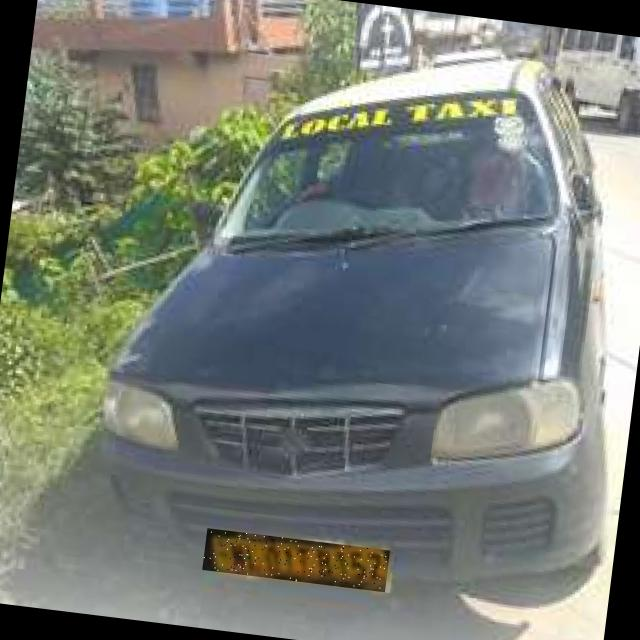Plate: (203, 530, 391, 594)
